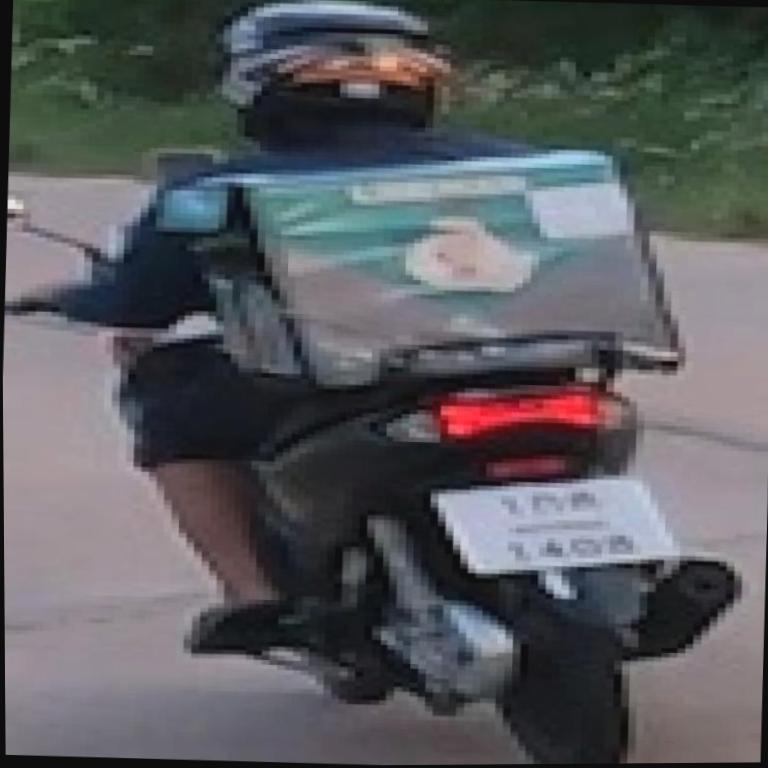license plate: (423, 466, 684, 584)
